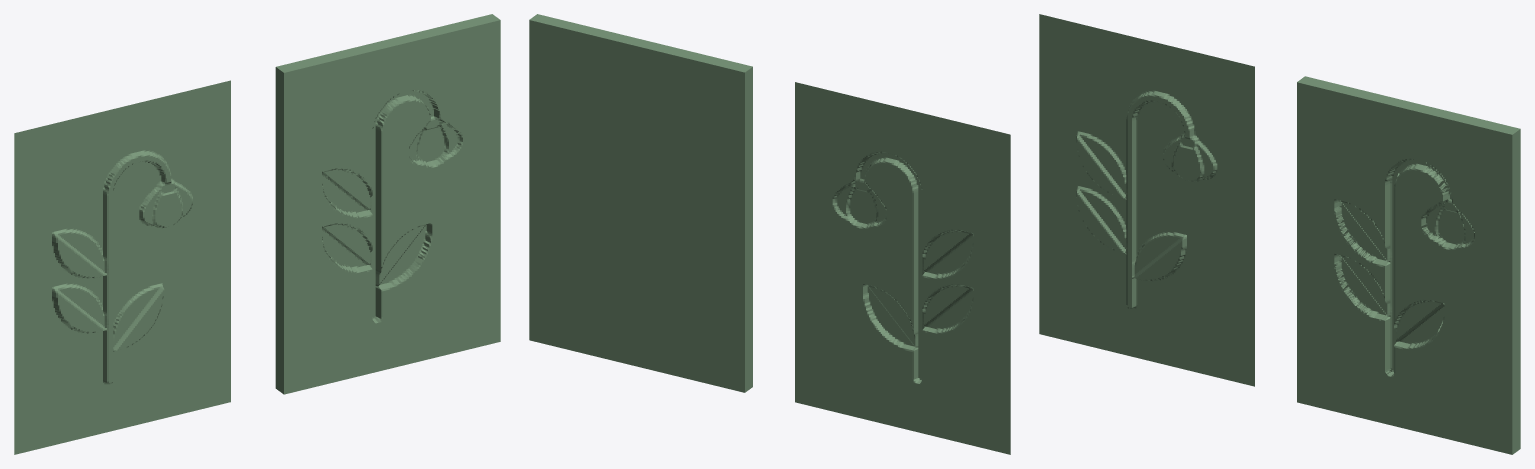
Rendered from snowdrop_both_notexture.glb.
The picture shows the model from 3 angles, left to right: view 1: azimuth 30°, elevation 25°; view 2: azimuth 150°, elevation 25°; view 3: azimuth 330°, elevation 25°; orthographic projection.
Visible parts, largest first — view 1: Plane.029, Plane.015; view 2: Plane.029, Plane.015; view 3: Plane.029, Plane.015.
Part boxes in pixels (x1=…): Plane.029: x1=275, y1=14, x2=500, y2=394; Plane.015: x1=14, y1=80, x2=230, y2=454; Plane.029: x1=529, y1=14, x2=752, y2=392; Plane.015: x1=795, y1=82, x2=1010, y2=454; Plane.029: x1=1297, y1=76, x2=1520, y2=454; Plane.015: x1=1039, y1=14, x2=1254, y2=386.
Bounding box in the file's own units: 9.1 × 5.82 × 0.2801.
